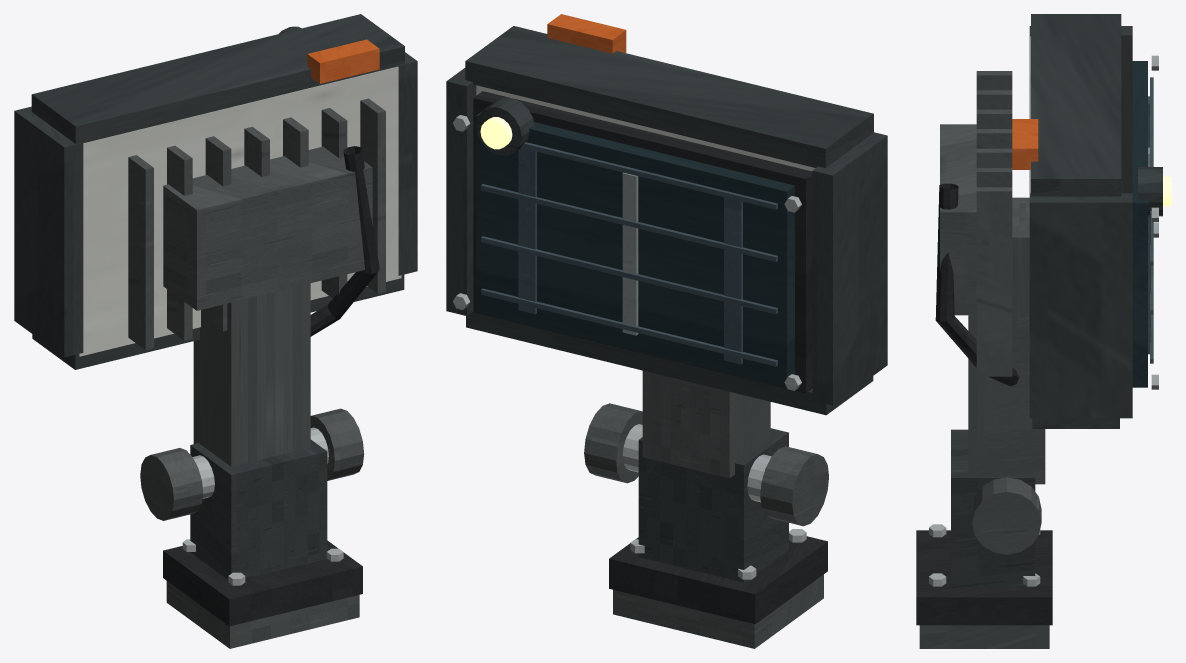
File: gary_radar_head.glb
3 views of the same model, side by side, from view 1: azimuth 30°, elevation 25°; view 2: azimuth 150°, elevation 25°; view 3: azimuth 270°, elevation 25° (orthographic). The views are drawn at different scales.
Parts seen in each view (by area): view 1: antenna_body_rover_white, rear_data_pod_dark_alloy, top_rim_graphite, antenna_stanchion_dark_alloy, radome_edge_-0.16_graphite, yoke_column_graphite, mast_rubber_isolator_black_rubber, cooling_fin_0_dark_alloy, mast_socket_dark_alloy, radome_edge_0.16_graphite, yoke_bushing_-0.077_dark_alloy, radar_flex_loom_black_rubber (+10 smaller); view 2: radome_dark_glass, top_rim_graphite, radome_edge_-0.16_graphite, yoke_column_graphite, radome_gasket_black_rubber, antenna_stanchion_dark_alloy, mast_rubber_isolator_black_rubber, lower_rim_graphite, radome_edge_0.16_graphite, mast_socket_dark_alloy, yoke_bushing_-0.077_dark_alloy, yoke_bushing_0.077_dark_alloy (+12 smaller); view 3: radome_edge_0.16_graphite, top_rim_graphite, antenna_stanchion_dark_alloy, mast_rubber_isolator_black_rubber, cooling_fin_6_dark_alloy, yoke_column_graphite, rear_data_pod_dark_alloy, radome_dark_glass, yoke_bushing_0.077_dark_alloy, mast_socket_dark_alloy, radar_flex_loom_black_rubber, radome_gasket_black_rubber (+10 smaller).
Part boxes in pixels (left/top/right/bottom): antenna_body_rover_white: left=79, top=66, right=401, bottom=356; rear_data_pod_dark_alloy: left=163, top=146, right=372, bottom=310; top_rim_graphite: left=31, top=14, right=404, bottom=143; antenna_stanchion_dark_alloy: left=193, top=283, right=310, bottom=466; radome_edge_-0.16_graphite: left=14, top=106, right=83, bottom=357; yoke_column_graphite: left=190, top=439, right=327, bottom=579; mast_rubber_isolator_black_rubber: left=163, top=540, right=362, bottom=626; cooling_fin_0_dark_alloy: left=128, top=155, right=153, bottom=350; mast_socket_dark_alloy: left=166, top=581, right=359, bottom=648; radome_edge_0.16_graphite: left=398, top=52, right=417, bottom=275; yoke_bushing_-0.077_dark_alloy: left=140, top=448, right=203, bottom=520; radar_flex_loom_black_rubber: left=310, top=146, right=379, bottom=336; radome_dark_glass: left=475, top=111, right=794, bottom=387; top_rim_graphite: left=465, top=26, right=873, bottom=167; radome_edge_-0.16_graphite: left=812, top=132, right=887, bottom=405; yoke_column_graphite: left=638, top=428, right=788, bottom=582; radome_gasket_black_rubber: left=473, top=91, right=812, bottom=393; antenna_stanchion_dark_alloy: left=642, top=370, right=770, bottom=478; mast_rubber_isolator_black_rubber: left=609, top=536, right=827, bottom=624; lower_rim_graphite: left=466, top=312, right=873, bottom=415; radome_edge_0.16_graphite: left=446, top=68, right=476, bottom=315; mast_socket_dark_alloy: left=613, top=574, right=823, bottom=648; yoke_bushing_-0.077_dark_alloy: left=760, top=446, right=828, bottom=526; yoke_bushing_0.077_dark_alloy: left=584, top=403, right=642, bottom=483; radome_edge_0.16_graphite: left=1029, top=193, right=1132, bottom=418; top_rim_graphite: left=1031, top=14, right=1121, bottom=196; antenna_stanchion_dark_alloy: left=968, top=197, right=1045, bottom=484; mast_rubber_isolator_black_rubber: left=916, top=530, right=1052, bottom=625; cooling_fin_6_dark_alloy: left=976, top=187, right=1012, bottom=376; yoke_column_graphite: left=951, top=429, right=1035, bottom=587; rear_data_pod_dark_alloy: left=940, top=124, right=976, bottom=315; radome_dark_glass: left=1132, top=61, right=1147, bottom=387; yoke_bushing_0.077_dark_alloy: left=972, top=477, right=1041, bottom=554; mast_socket_dark_alloy: left=919, top=625, right=1049, bottom=648; radar_flex_loom_black_rubber: left=935, top=183, right=1018, bottom=385; radome_gasket_black_rubber: left=1121, top=47, right=1132, bottom=193.
Size of the model in its own units: 0.338 by 0.475 by 0.206.
Materials: 10 (10 with a texture image).
